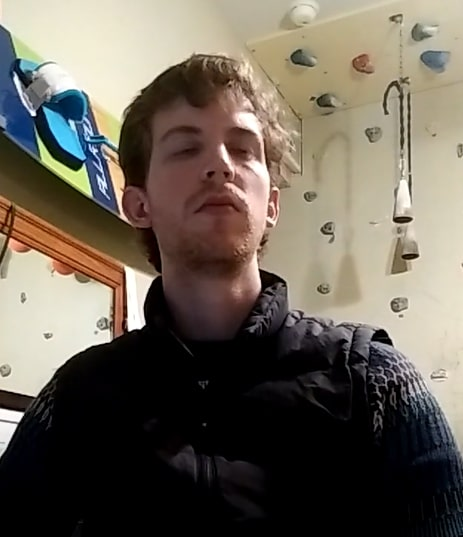Half Asleep: (158, 126, 263, 171)
